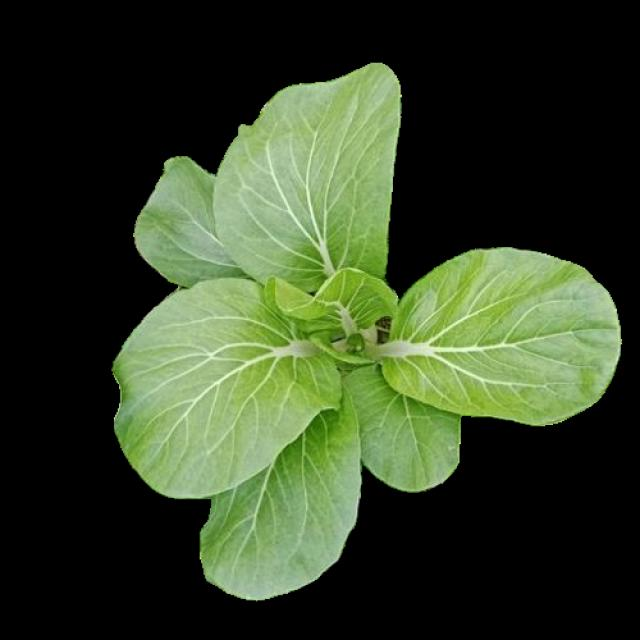healthy: (106, 72, 618, 603)
mature: (109, 65, 621, 595)
